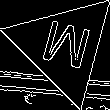M_S: (34, 16, 93, 77)
